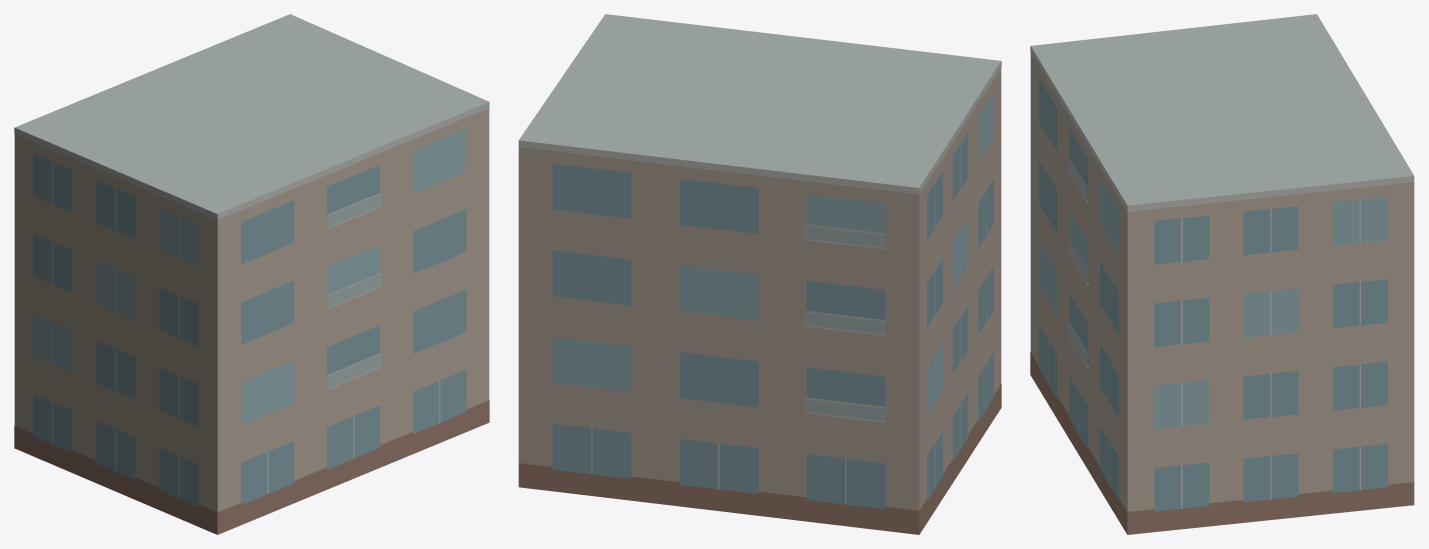
File: survey-upis-33017477.glb
3 views of the same model, side by side, from view 1: azimuth 30°, elevation 25°; view 2: azimuth 150°, elevation 25°; view 3: azimuth 270°, elevation 25° (orthographic). The views are drawn at different scales.
Parts seen in each view (by area): view 1: survey-upis-33017477.tmp; view 2: survey-upis-33017477.tmp; view 3: survey-upis-33017477.tmp.
Boxes of the visible parts, box(x1,y1,x2,y2) form: survey-upis-33017477.tmp: box(14, 14, 489, 534); survey-upis-33017477.tmp: box(518, 14, 1001, 534); survey-upis-33017477.tmp: box(1030, 14, 1414, 534).
Bounding box in the file's own units: 15.99 × 12.8 × 13.53.
